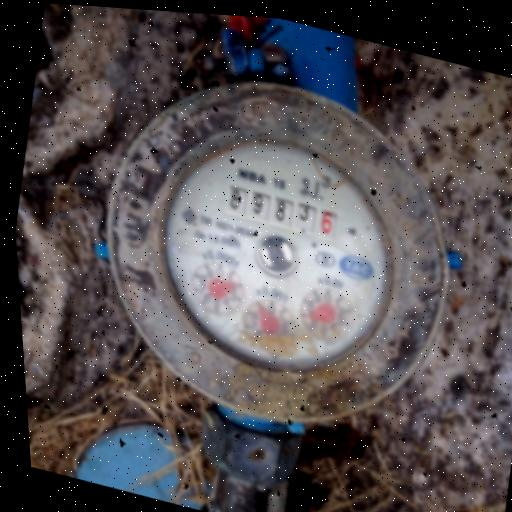3: (295, 204, 319, 233)
6: (318, 211, 339, 238)
8: (226, 187, 249, 215), (272, 197, 293, 224)
9: (249, 193, 273, 221)
border_water_meter_number: (216, 179, 348, 246)
